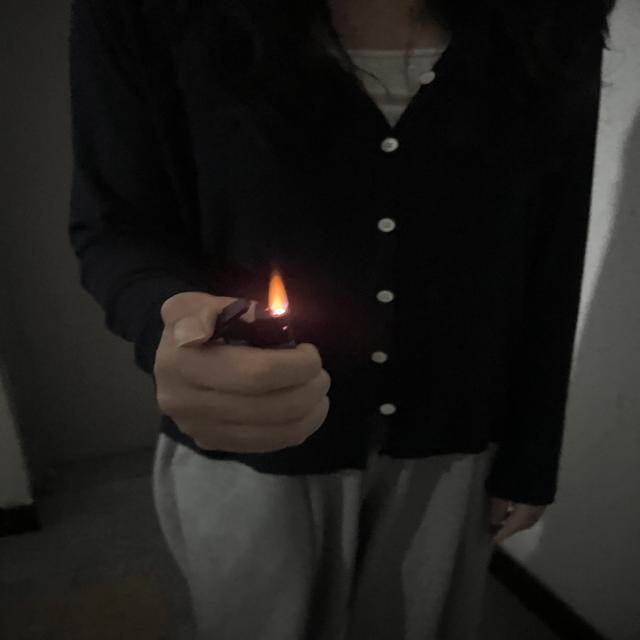fire: (264, 273, 292, 315)
